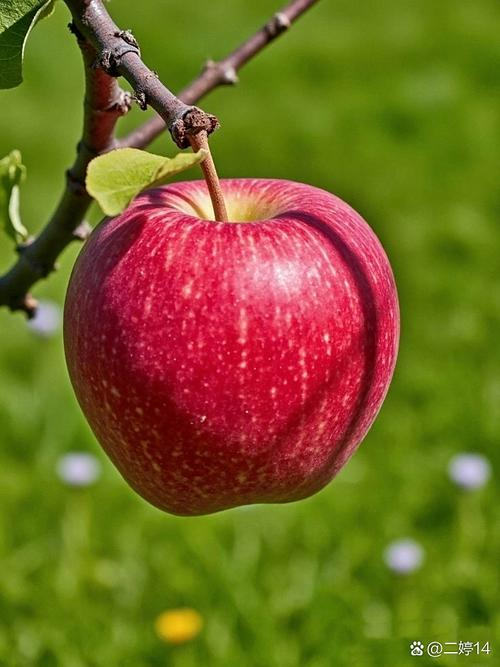ripe: (61, 168, 405, 519)
